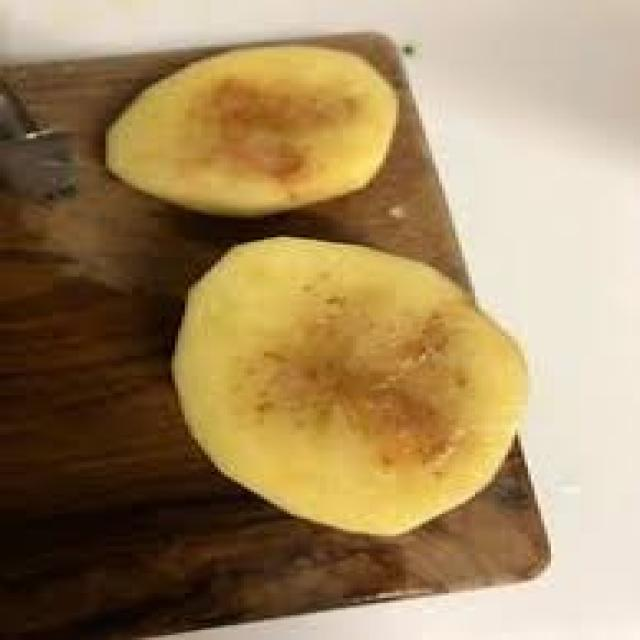BiologicalWaste: (105, 0, 544, 581)
